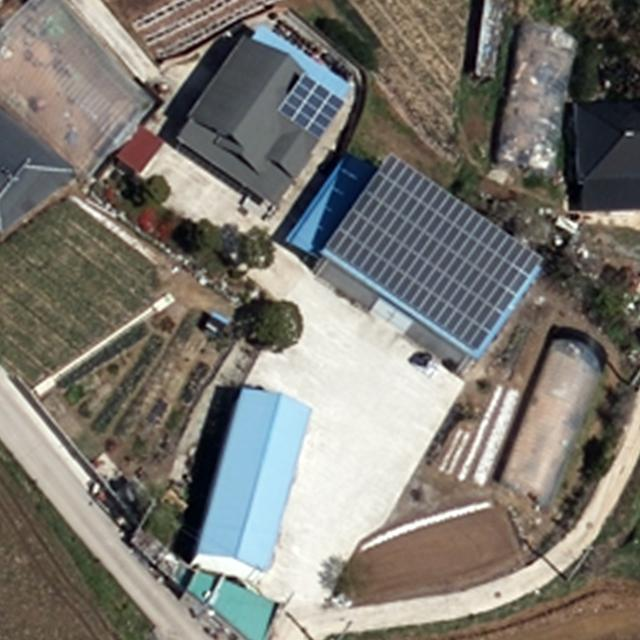panel: (316, 152, 545, 358), (281, 73, 347, 140)
